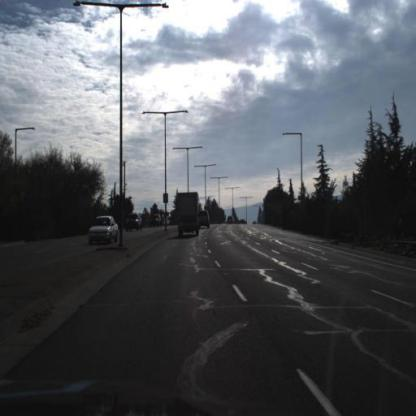car: (87, 214, 121, 248), (126, 210, 142, 233), (199, 211, 212, 230), (150, 211, 162, 229), (227, 215, 235, 227)
truck: (177, 193, 199, 237)
